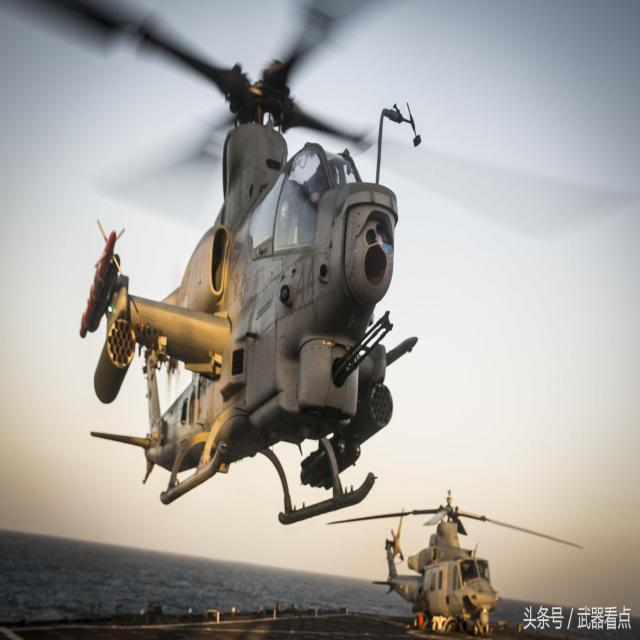MIL_HELO: (8, 0, 450, 534), (322, 484, 588, 626)
